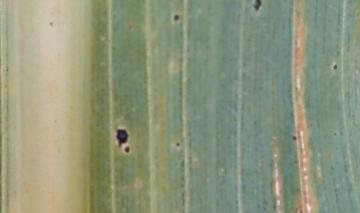tarspot: (115, 127, 128, 146), (252, 1, 262, 12), (172, 13, 180, 22), (331, 63, 339, 71), (291, 134, 297, 142), (332, 130, 338, 137), (175, 140, 180, 148), (124, 147, 130, 153)
